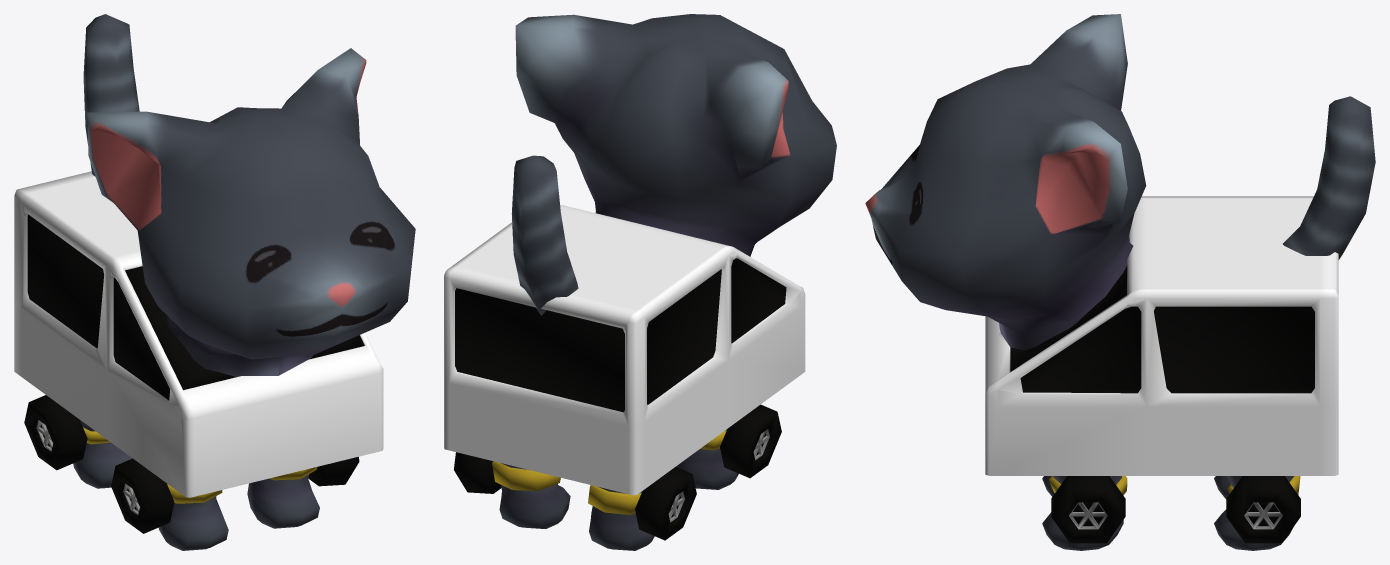
The model's file is Arrows Cat04.fbx.
The picture shows the model from 3 angles, left to right: view 1: azimuth 30°, elevation 25°; view 2: azimuth 150°, elevation 25°; view 3: azimuth 270°, elevation 25°; orthographic projection. The views are drawn at different scales.
Visible parts, largest first — view 1: Cat_Base003, Arrows_Cat_Body, Arrows_Cat_Wheels_HR, Arrows_Cat_Wheels_LR, Arrows_Cat_Wheels_HL; view 2: Arrows_Cat_Body, Cat_Base003, Arrows_Cat_Wheels_LR, Arrows_Cat_Wheels_HR, Arrows_Cat_Wheels_LL; view 3: Arrows_Cat_Body, Cat_Base003, Arrows_Cat_Wheels_HL, Arrows_Cat_Wheels_LL.
Part boxes in pixels (x1=…): Cat_Base003: x1=73, y1=14, x2=415, y2=550; Arrows_Cat_Body: x1=14, y1=171, x2=383, y2=497; Arrows_Cat_Wheels_HR: x1=111, y1=458, x2=222, y2=533; Arrows_Cat_Wheels_LR: x1=24, y1=395, x2=110, y2=470; Arrows_Cat_Wheels_HL: x1=269, y1=456, x2=359, y2=486; Arrows_Cat_Body: x1=444, y1=204, x2=805, y2=495; Cat_Base003: x1=499, y1=14, x2=836, y2=550; Arrows_Cat_Wheels_LR: x1=588, y1=466, x2=696, y2=540; Arrows_Cat_Wheels_HR: x1=700, y1=404, x2=781, y2=478; Arrows_Cat_Wheels_LL: x1=454, y1=452, x2=560, y2=493; Arrows_Cat_Body: x1=985, y1=196, x2=1338, y2=475; Cat_Base003: x1=865, y1=14, x2=1375, y2=550; Arrows_Cat_Wheels_HL: x1=1049, y1=476, x2=1127, y2=543; Arrows_Cat_Wheels_LL: x1=1226, y1=476, x2=1300, y2=543.
Size of the model in its own units: 1.75 by 2.83 by 2.68.
5 materials, 1 textured.
